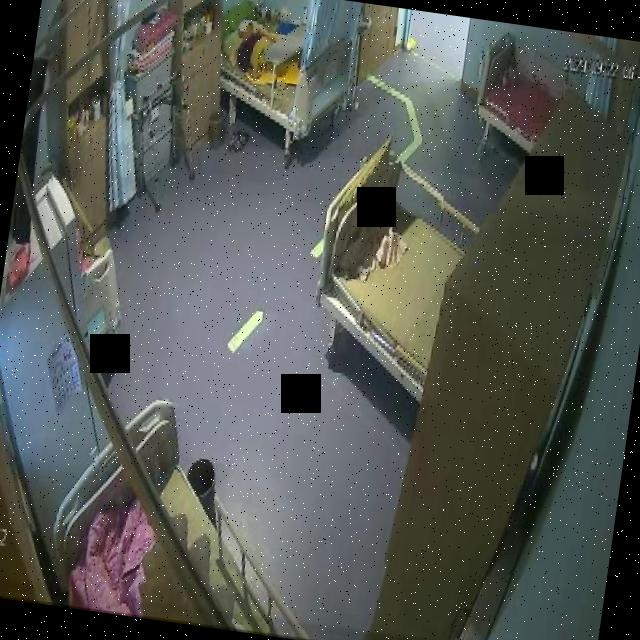bed: (42, 386, 310, 637), (299, 146, 456, 407), (212, 21, 356, 174), (467, 20, 551, 167)
walker: (125, 66, 210, 220)
